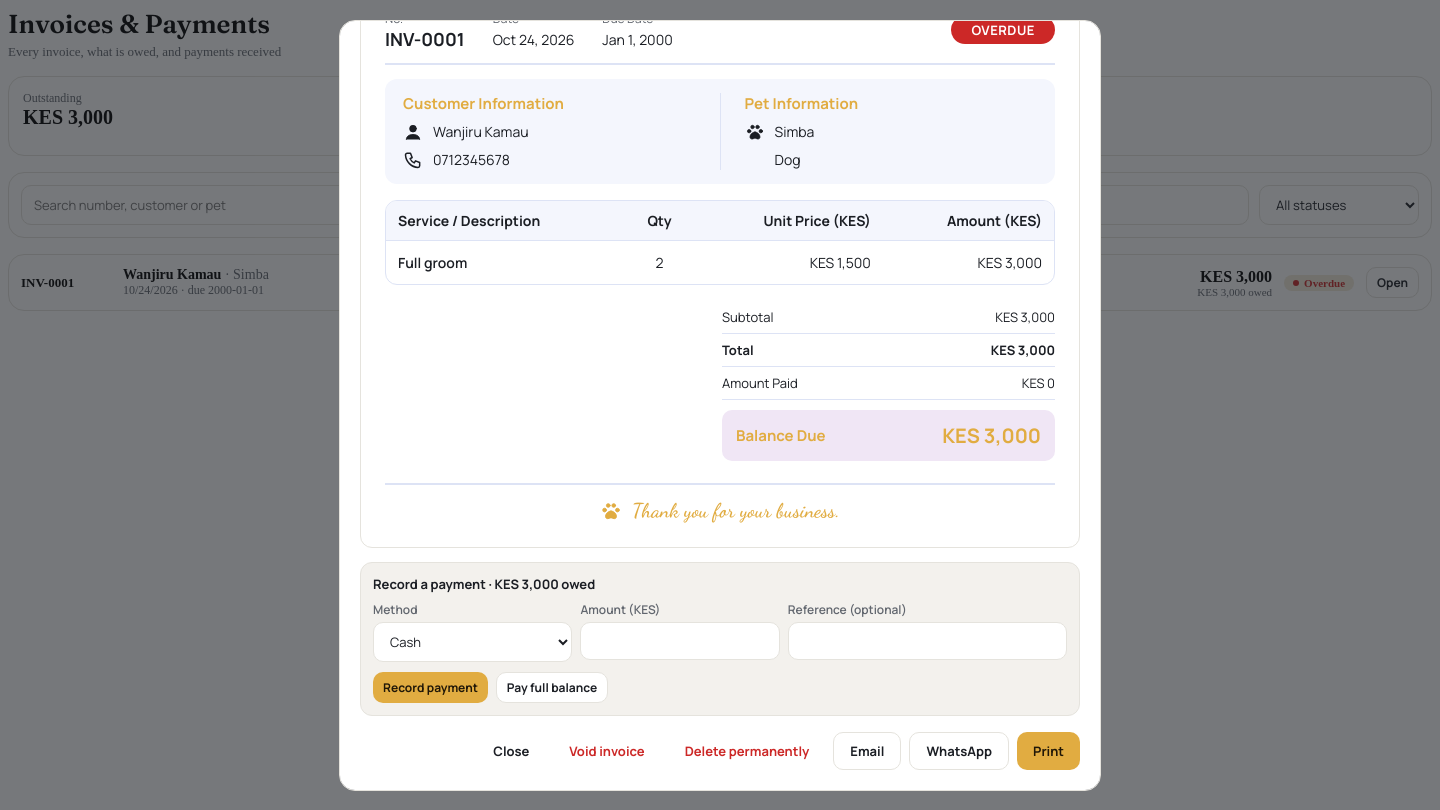
InvoicesPage › shows a friendly message for a duplicate payment reference
The image size is (1440, 810).
(page scrolled)
In the field labelled "Amount (KES)": x=680, y=640 [580, 622, 780, 660], type "1000"
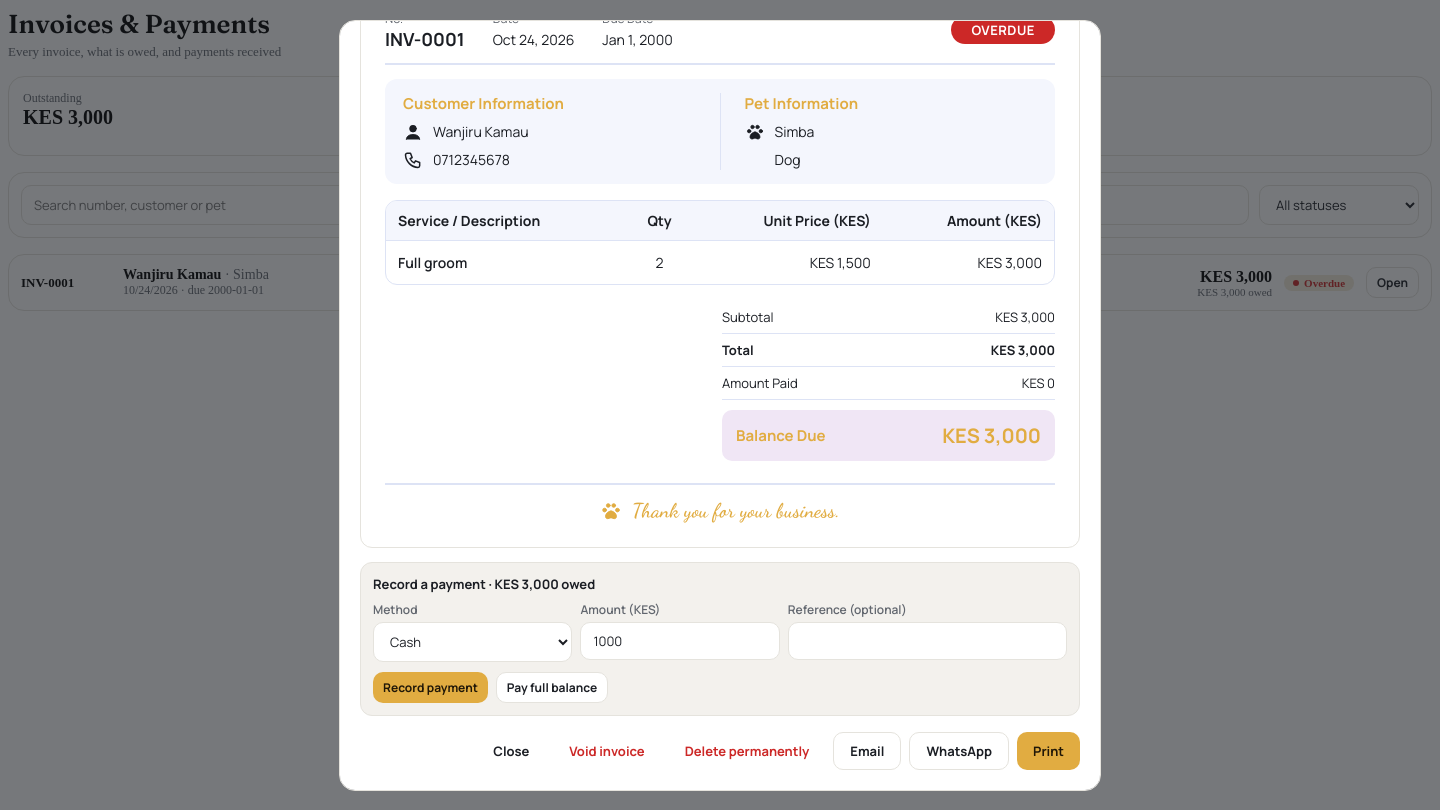
Click the button "Record payment": x=430, y=687 [373, 672, 488, 702]
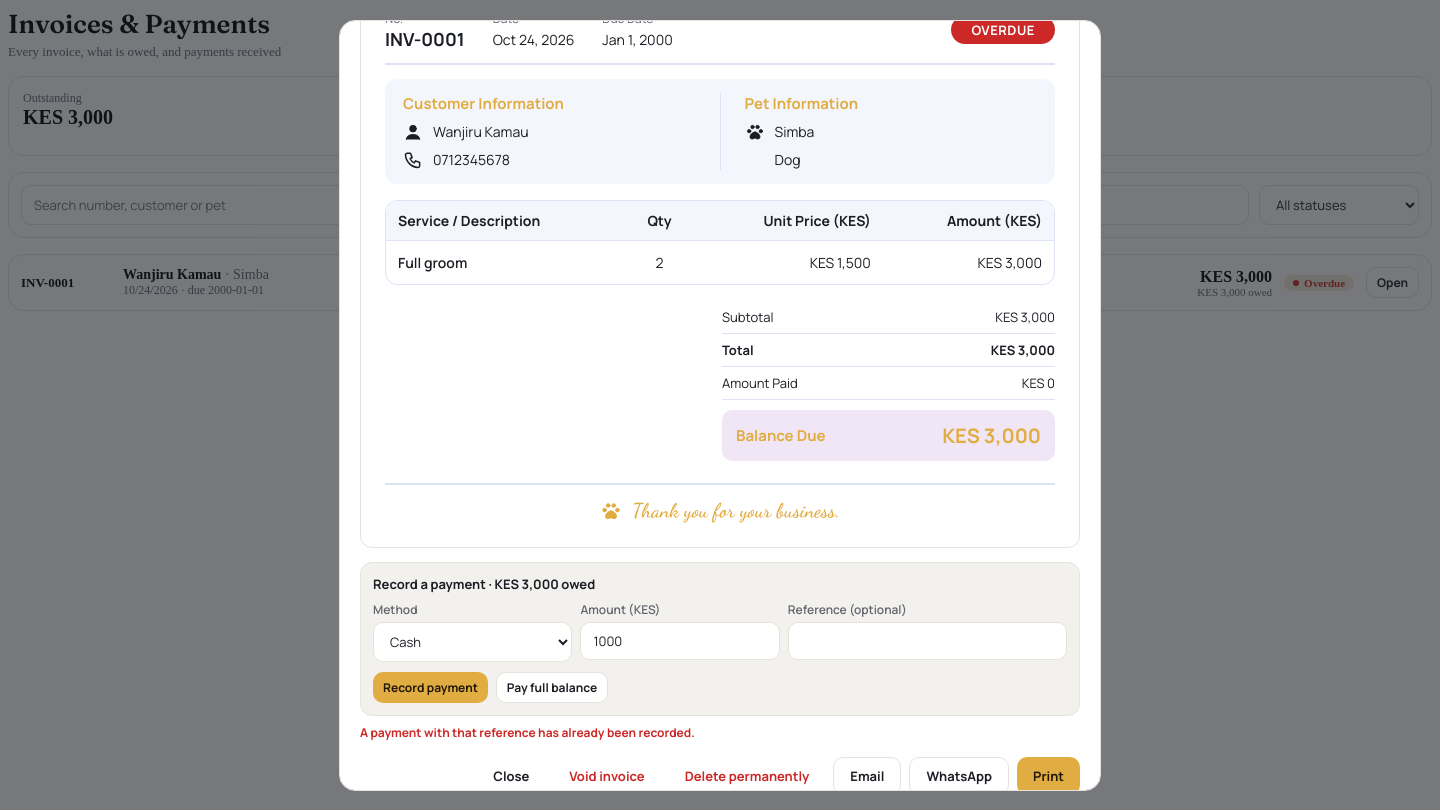
Expected: the text "A payment with that reference has already been recorded." is shown, [360, 724, 695, 740]
